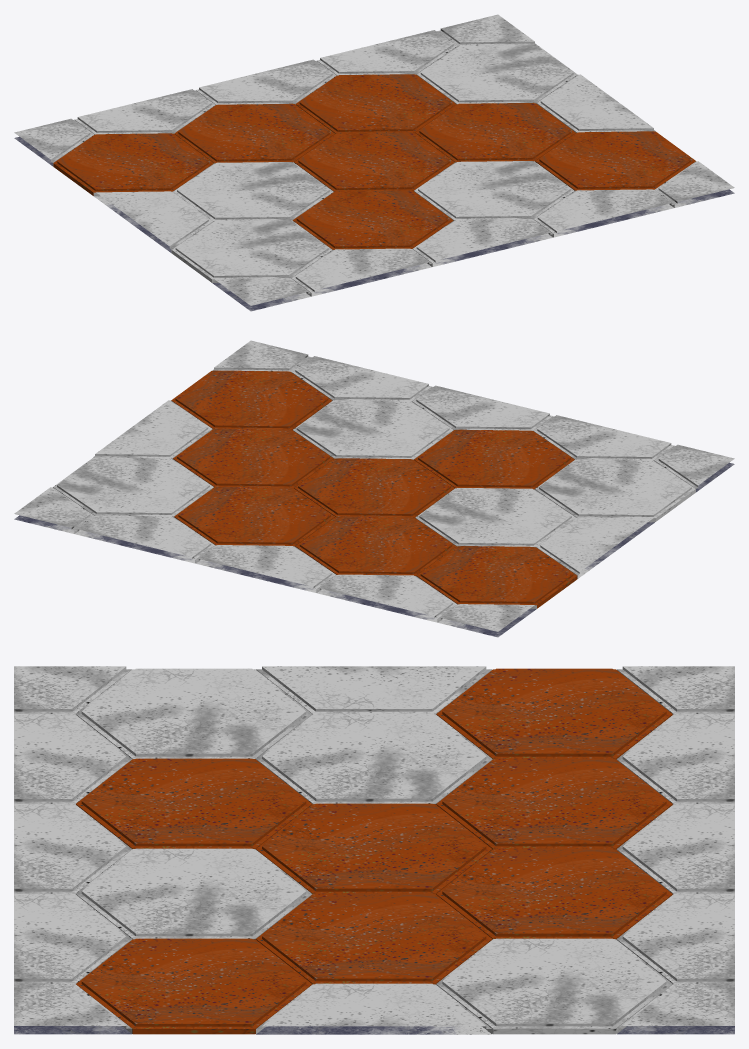
Rendered from HexagonalBaseLargeMix.glb.
3 renders of one model, top to bottom at view 1: azimuth 30°, elevation 25°; view 2: azimuth 150°, elevation 25°; view 3: azimuth 270°, elevation 25°, orthographic. The views are drawn at different scales.
Parts seen in each view (by area): view 1: HexagonalBaseLargeMix; view 2: HexagonalBaseLargeMix; view 3: HexagonalBaseLargeMix.
Part boxes in pixels (box(x1,y1,x2,y2)): HexagonalBaseLargeMix: box(14, 14, 734, 311); HexagonalBaseLargeMix: box(14, 340, 734, 637); HexagonalBaseLargeMix: box(14, 666, 734, 1034).
Size of the model in its own units: 2.78 by 0.03 by 2.36.
Materials: 2 (2 with a texture image).
